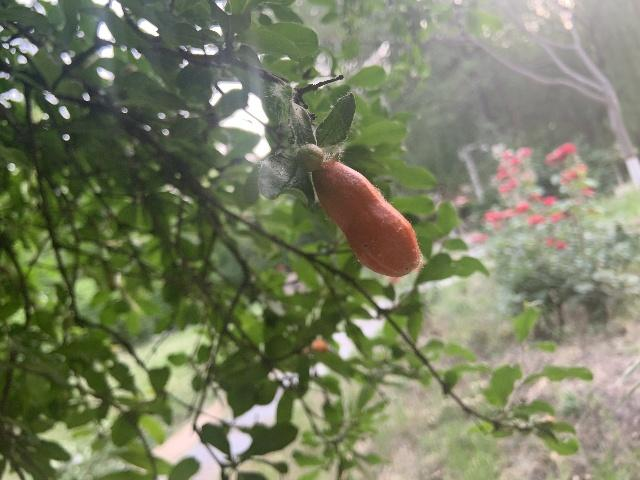bud: (311, 157, 421, 277)
